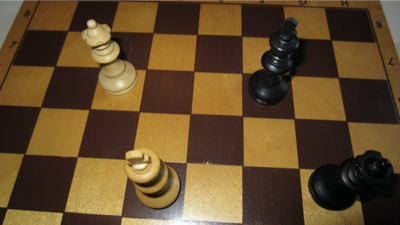black-king: (249, 18, 301, 106)
black-queen: (308, 150, 396, 212)
white-king: (124, 147, 181, 210)
white-queen: (82, 19, 139, 96)
